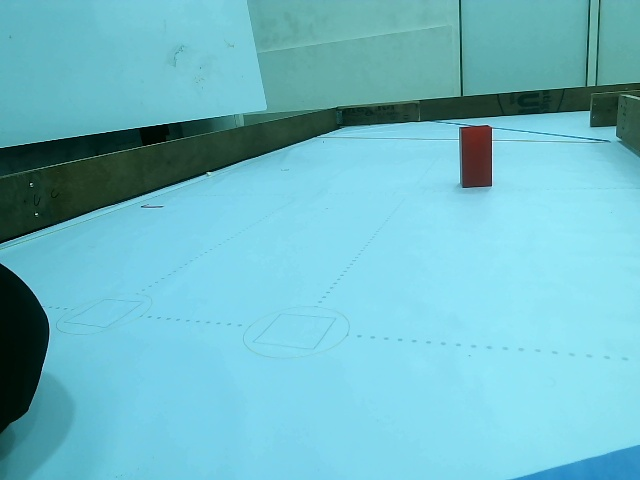red: (460, 126, 493, 188)
